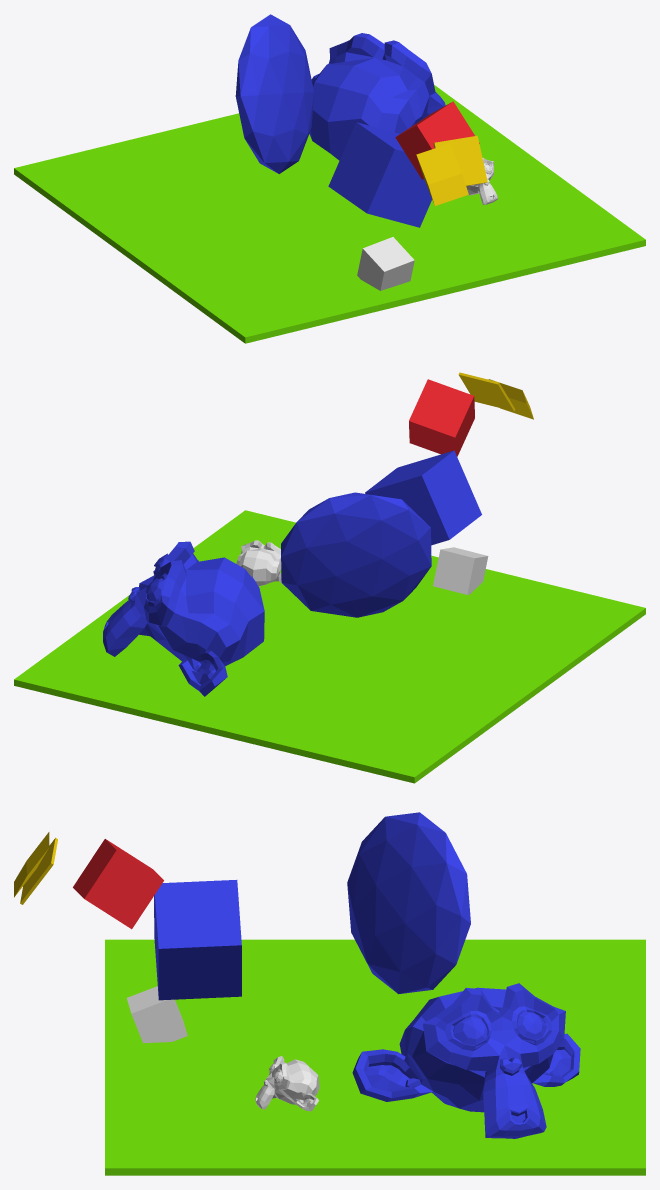
The model's file is Parent2.gltf.
3 views of the same model, one above another, from view 1: azimuth 30°, elevation 25°; view 2: azimuth 150°, elevation 25°; view 3: azimuth 270°, elevation 25° (orthographic). The views are drawn at different scales.
Parts seen in each view (by area): view 1: Cube, Suzanne.001, Icosphere, Cube.001, Cube.003, Cube.002, Cube.005, Cube.004, Suzanne; view 2: Cube, Icosphere, Suzanne.001, Cube.001, Cube.003, Cube.002, Suzanne, Cube.004, Cube.005; view 3: Cube, Suzanne.001, Icosphere, Cube.001, Cube.003, Suzanne, Cube.002, Cube.004, Cube.005.
Boxes of the visible parts, <box> form: Cube: <box>14,85,645,343</box>; Suzanne.001: <box>309,33,445,160</box>; Icosphere: <box>235,14,313,173</box>; Cube.001: <box>328,122,431,227</box>; Cube.003: <box>395,101,479,179</box>; Cube.002: <box>357,237,414,290</box>; Cube.005: <box>416,143,468,205</box>; Cube.004: <box>433,135,487,185</box>; Suzanne: <box>466,157,497,204</box>; Cube: <box>14,510,645,783</box>; Icosphere: <box>281,492,431,617</box>; Suzanne.001: <box>103,541,264,696</box>; Cube.001: <box>365,450,481,545</box>; Cube.003: <box>409,379,474,456</box>; Cube.002: <box>433,547,488,594</box>; Suzanne: <box>236,540,283,586</box>; Cube.004: <box>458,372,515,411</box>; Cube.005: <box>488,379,533,419</box>; Cube: <box>105,939,645,1175</box>; Suzanne.001: <box>352,983,580,1138</box>; Icosphere: <box>347,812,470,994</box>; Cube.001: <box>154,880,241,1000</box>; Cube.003: <box>73,839,163,929</box>; Suzanne: <box>255,1056,319,1111</box>; Cube.002: <box>127,986,187,1043</box>; Cube.004: <box>20,837,57,904</box>; Cube.005: <box>14,832,49,897</box>.
Bounding box in the file's own units: 17.35 × 7.92 × 20.27.
